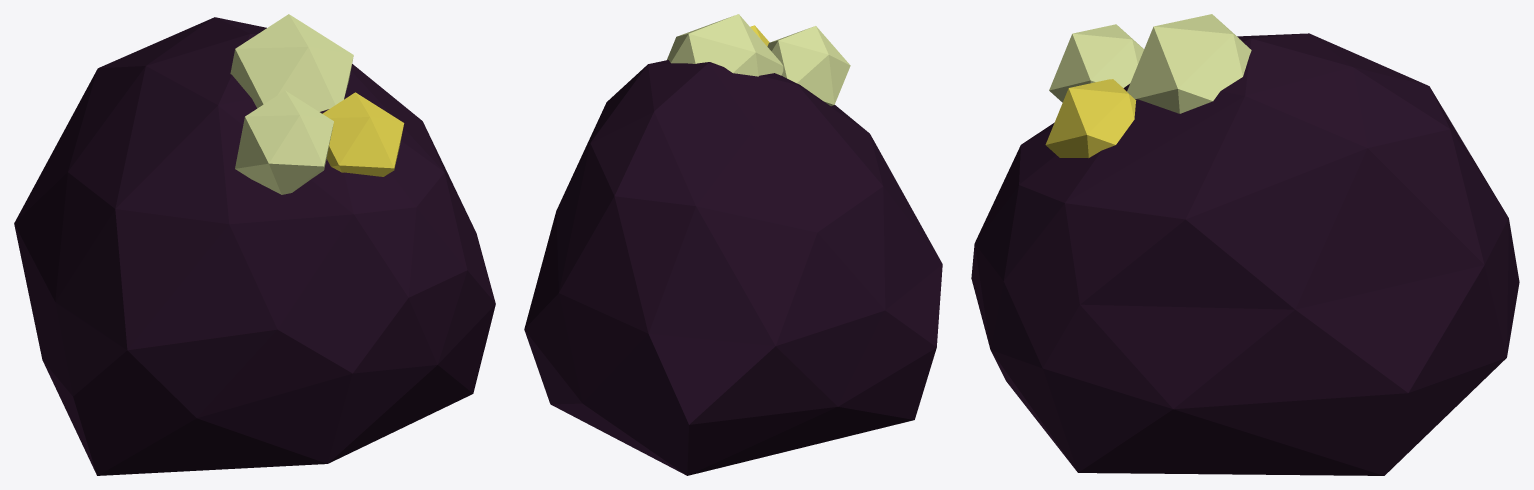
File: plantitas3_COLORES_BASE.fbx
3 renders of one model, left to right at view 1: azimuth 30°, elevation 25°; view 2: azimuth 150°, elevation 25°; view 3: azimuth 270°, elevation 25°, orthographic. The views are drawn at different scales.
Parts seen in each view (by area): view 1: Esfera geodésica, Esfera geodésica.001, Esfera geodésica.003, Esfera geodésica.002; view 2: Esfera geodésica, Esfera geodésica.001, Esfera geodésica.003; view 3: Esfera geodésica, Esfera geodésica.001, Esfera geodésica.002, Esfera geodésica.003.
Part boxes in pixels (box(x1,y1,x2,y2)): Esfera geodésica: box(14, 17, 495, 475); Esfera geodésica.001: box(230, 14, 353, 111); Esfera geodésica.003: box(235, 90, 333, 194); Esfera geodésica.002: box(322, 92, 404, 176); Esfera geodésica: box(524, 60, 942, 475); Esfera geodésica.001: box(667, 14, 783, 76); Esfera geodésica.003: box(767, 26, 850, 106); Esfera geodésica: box(971, 33, 1519, 475); Esfera geodésica.001: box(1127, 14, 1251, 113); Esfera geodésica.002: box(1045, 79, 1136, 158); Esfera geodésica.003: box(1049, 24, 1143, 102).
Size of the model in its own units: 225 by 218 by 260.
